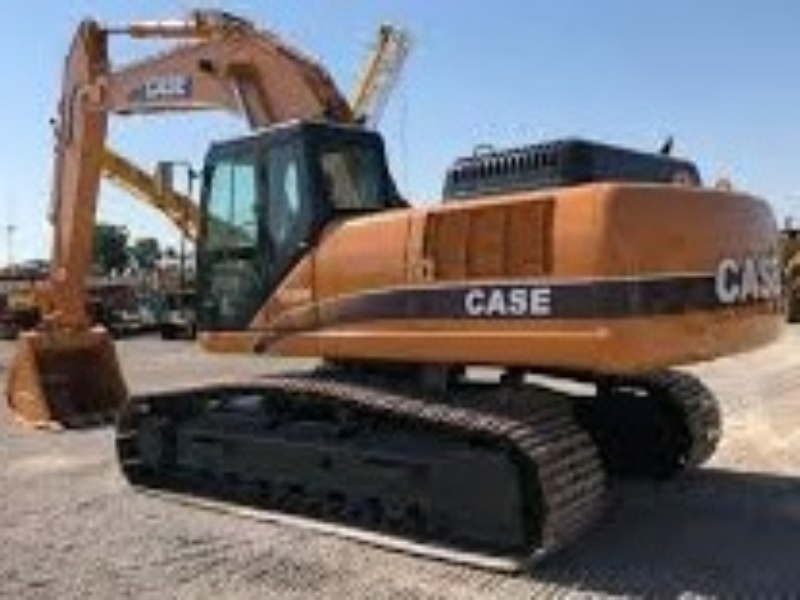wajueji: (112, 50, 788, 571)
